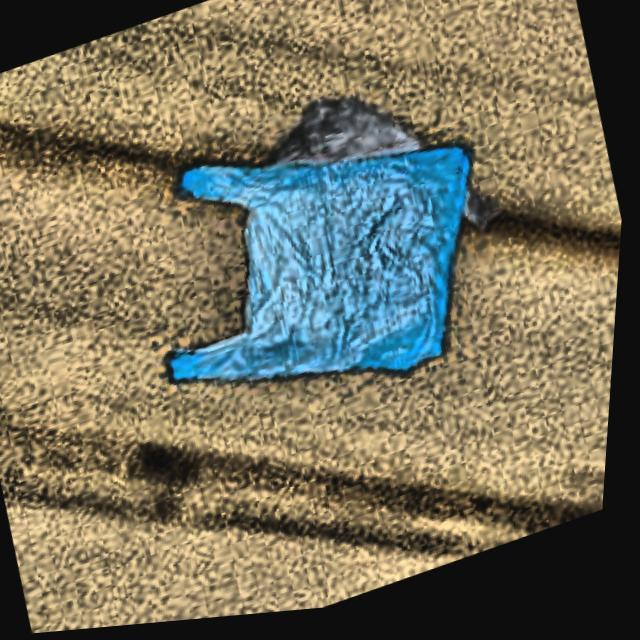Plastic: (96, 70, 530, 487), (203, 30, 520, 338)
